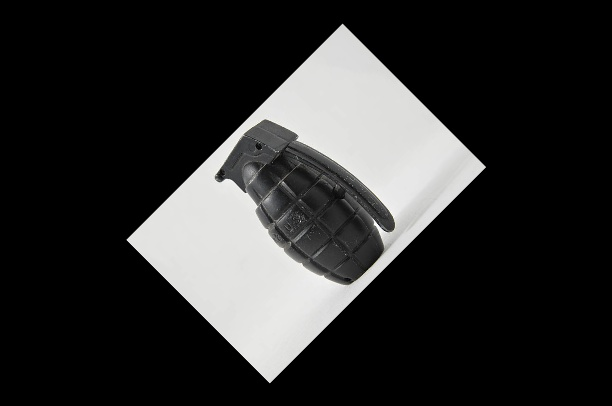e1: (212, 116, 396, 288)
